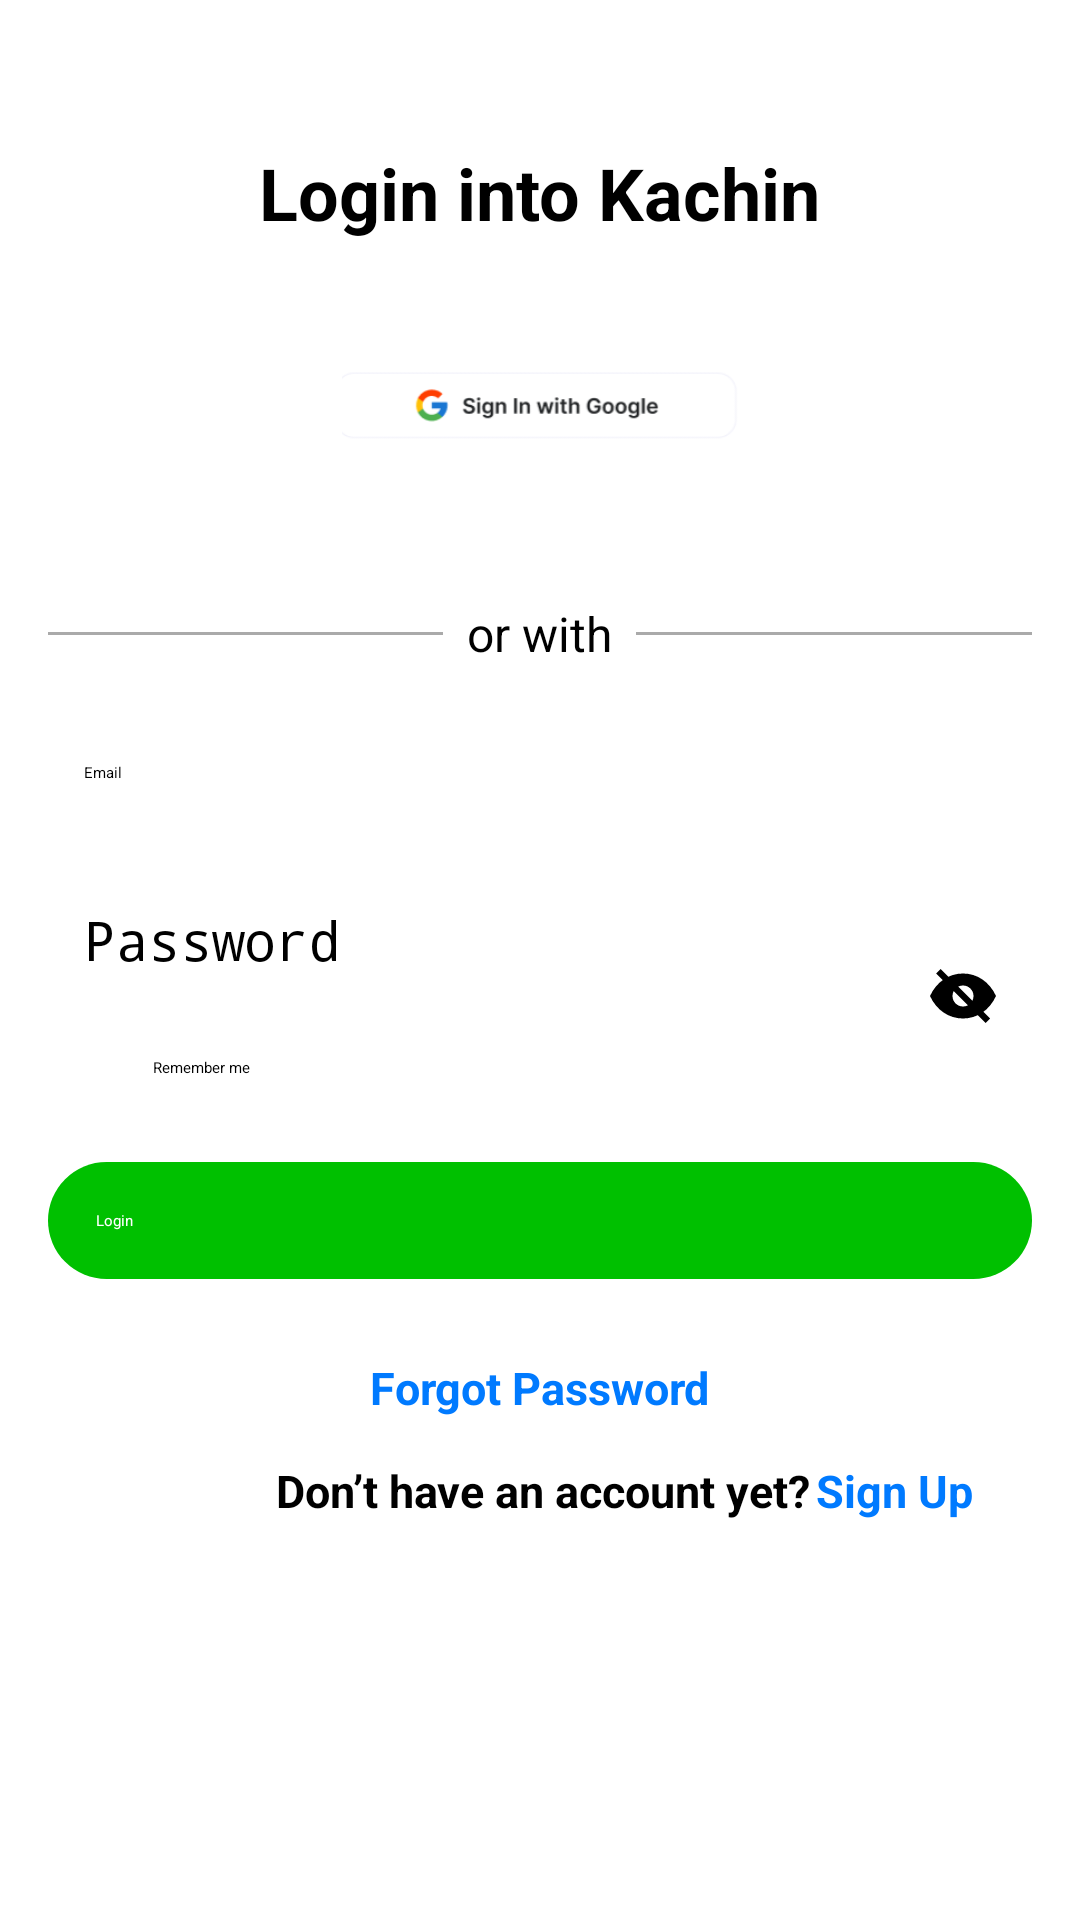

Locate icon controls on the screen. Image size 1080 x 1920, boxes as (x1, y1, x2, y2).
eye closed: (930, 969, 996, 1023)
